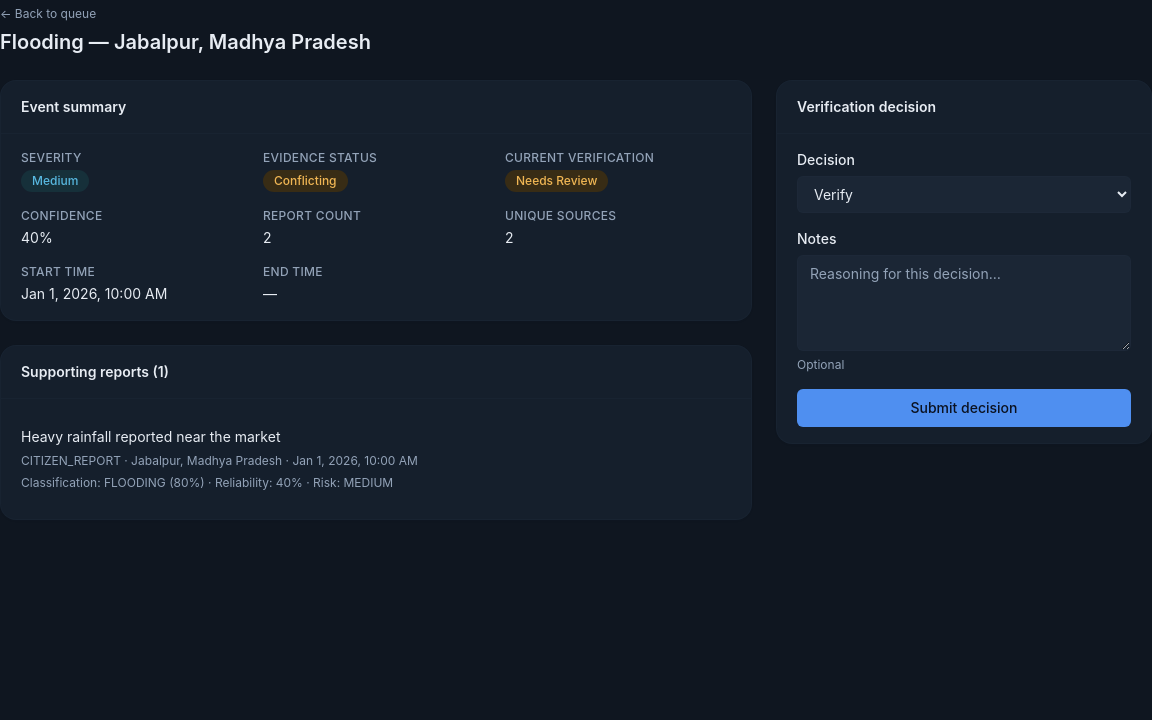
Scenario: AdminEvidenceDetailPage › requires notes before confirming a REJECTED decision
Select "Reject" in the dropdown labelled "Decision": point(964, 194) [797,176,1131,213]
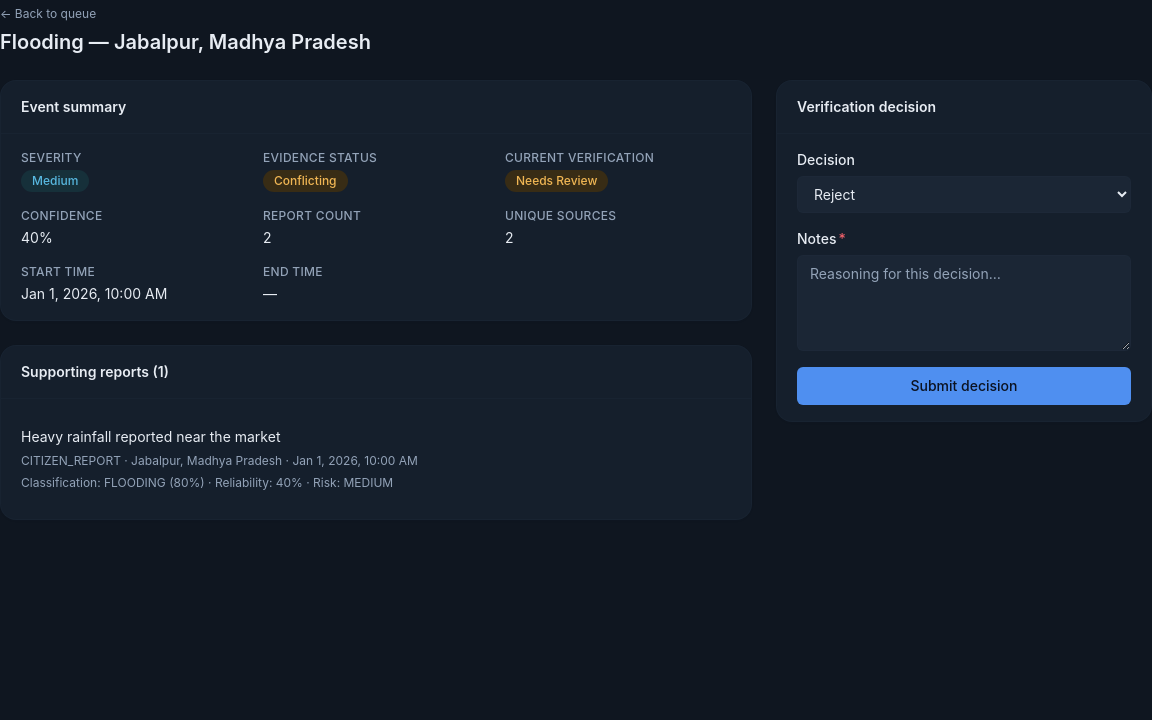
Click the button "Submit decision": point(964, 386) [797,367,1131,405]
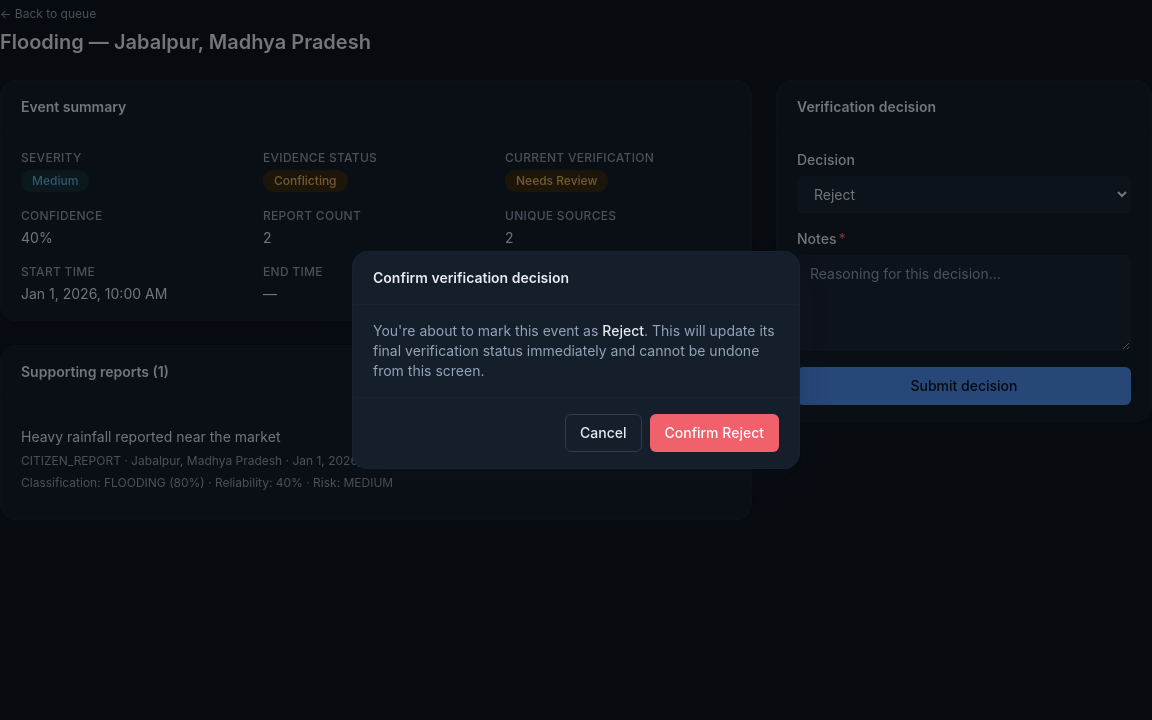
Click the button "Confirm Reject": point(714, 433) [650,414,779,452]
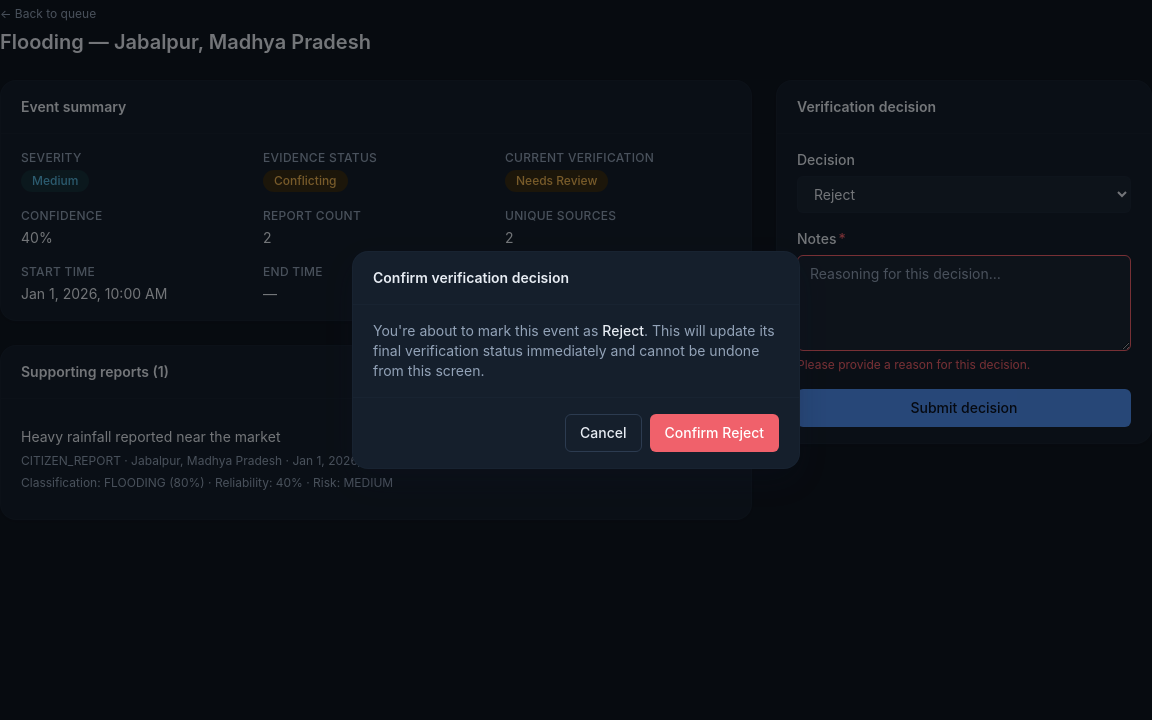
Now the text "Please provide a reason for this decision." is shown, box [797,357,1030,372]
